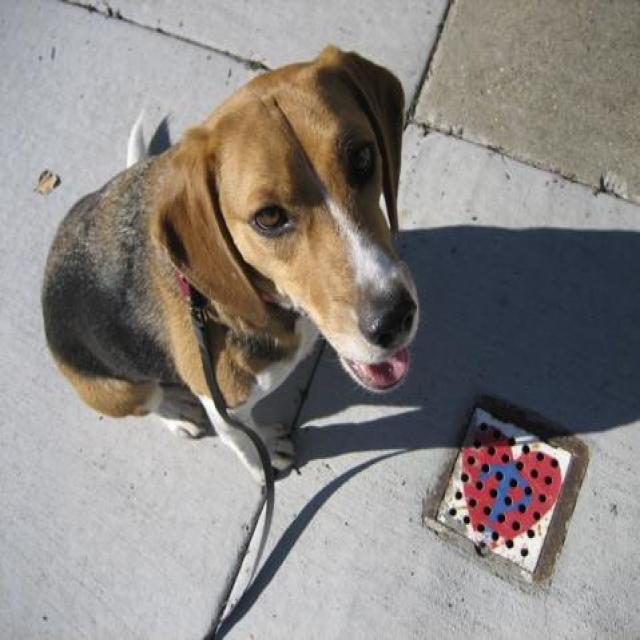beagle: (44, 46, 420, 484)
